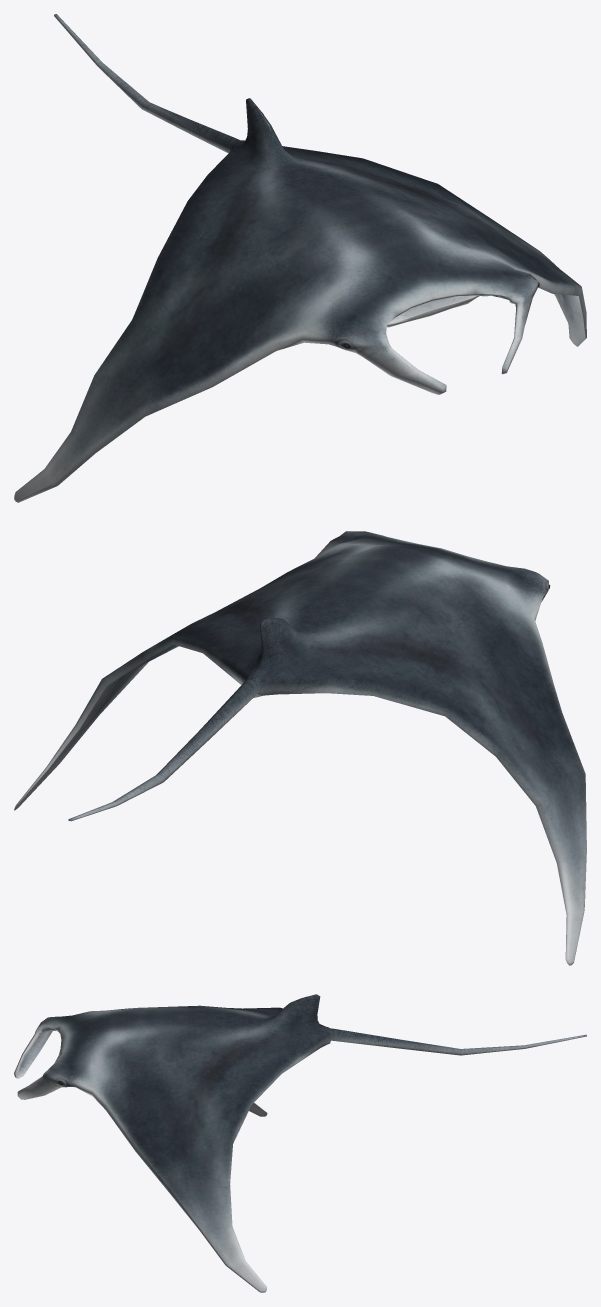
File: mantarraya.glb
The picture shows the model from 3 angles, top to bottom: view 1: azimuth 30°, elevation 25°; view 2: azimuth 150°, elevation 25°; view 3: azimuth 270°, elevation 25°; orthographic projection. The views are drawn at different scales.
Visible parts, largest first — view 1: Object_7; view 2: Object_7; view 3: Object_7.
Boxes of the visible parts, bbox=[...] form: Object_7: bbox=[14, 14, 586, 502]; Object_7: bbox=[14, 531, 586, 965]; Object_7: bbox=[14, 994, 586, 1292].
Size of the model in its own units: 282 by 149 by 360.
Materials: 1 (1 with a texture image).
